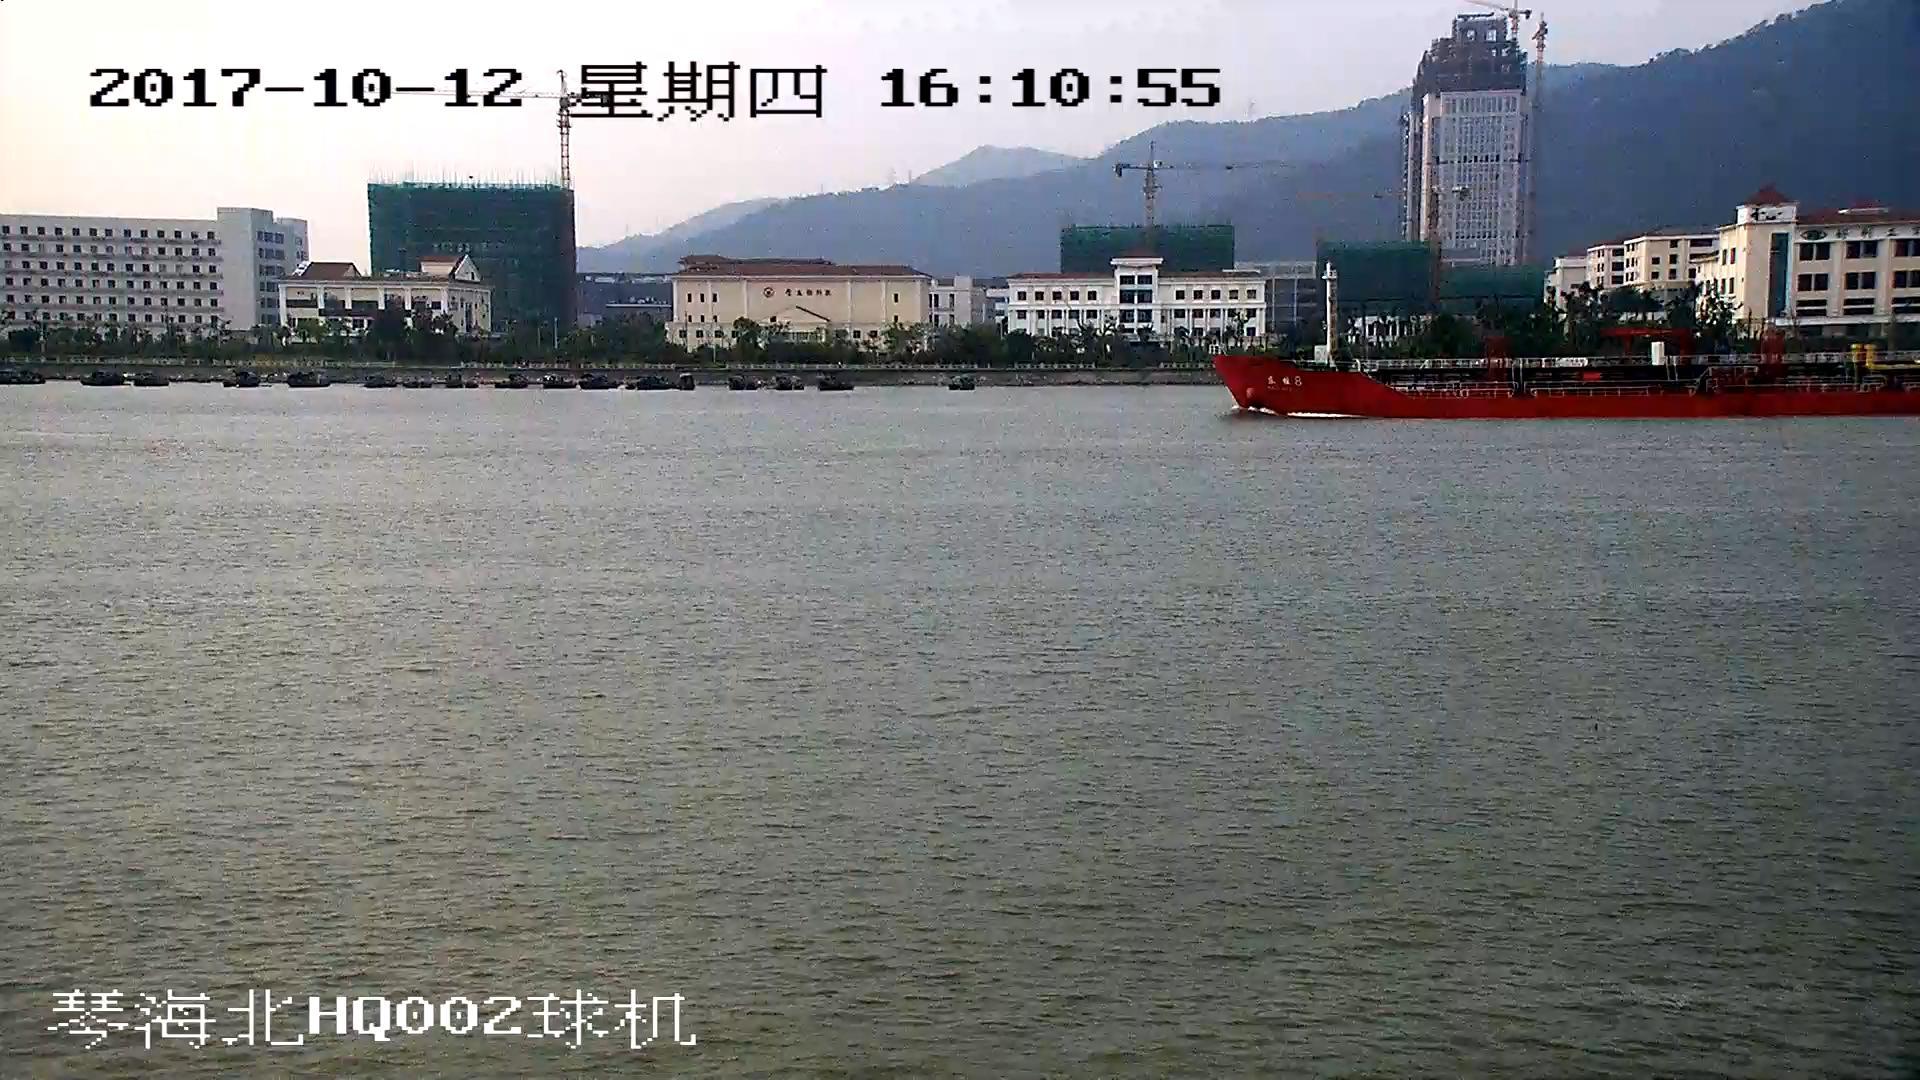general cargo ship: (1220, 272, 1920, 423)
